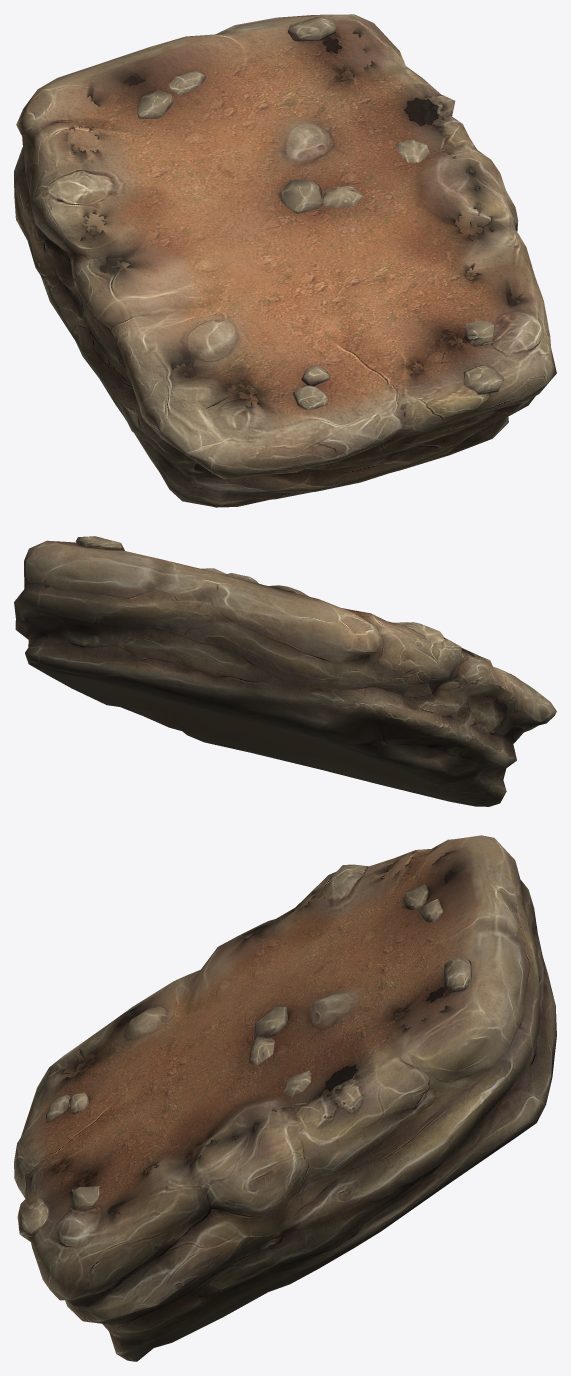
File: rock2.glb
The picture shows the model from 3 angles, top to bottom: view 1: azimuth 30°, elevation 25°; view 2: azimuth 150°, elevation 25°; view 3: azimuth 270°, elevation 25°; orthographic projection. The views are drawn at different scales.
Parts seen in each view (by area): view 1: node_id166; view 2: node_id166; view 3: node_id166.
Boxes of the visible parts, box(x1,y1,x2,y2) form: node_id166: box(14, 14, 556, 507); node_id166: box(14, 536, 556, 806); node_id166: box(14, 835, 556, 1361).
Size of the model in its own units: 0.1732 by 0.1265 by 0.1625.
1 material, 1 textured.
